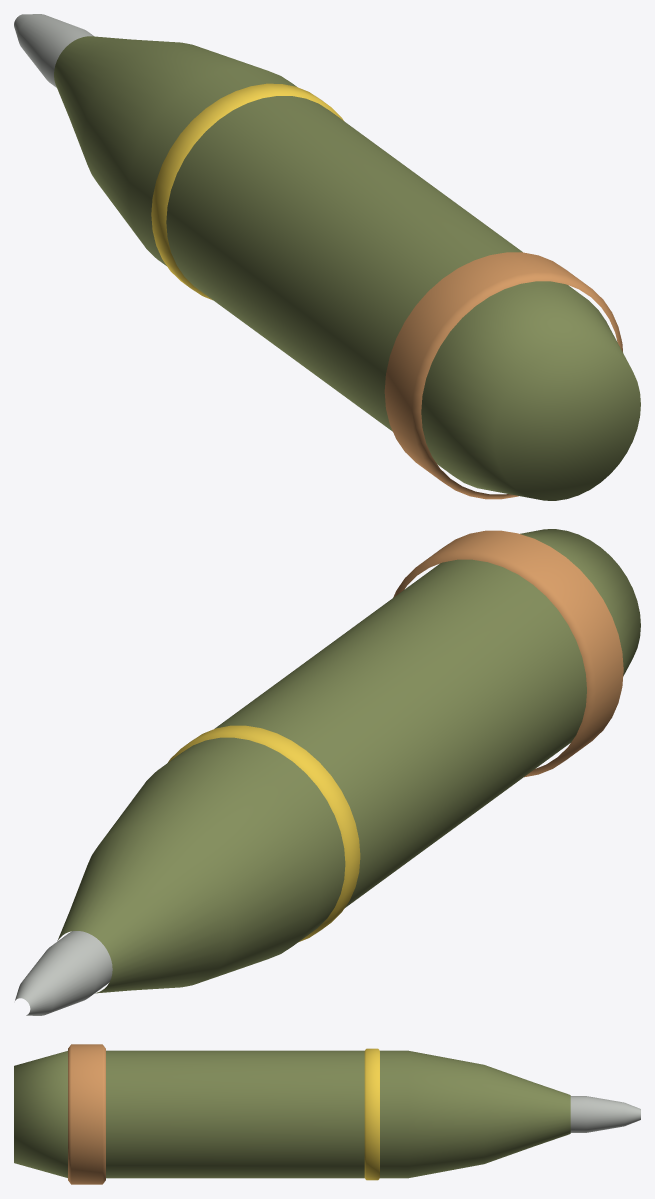
File: he_shell.glb
The picture shows the model from 3 angles, top to bottom: view 1: azimuth 30°, elevation 25°; view 2: azimuth 150°, elevation 25°; view 3: azimuth 270°, elevation 25°; orthographic projection. The views are drawn at different scales.
Visible parts, largest first — view 1: OliveExplosiveBody, CopperDrivingBand, YellowHEBand, ImpactFuze; view 2: OliveExplosiveBody, CopperDrivingBand, ImpactFuze, YellowHEBand; view 3: OliveExplosiveBody, CopperDrivingBand, YellowHEBand, ImpactFuze.
Part boxes in pixels (x1,y1,x2,y2): OliveExplosiveBody: [54, 36, 640, 500]; CopperDrivingBand: [384, 252, 622, 499]; YellowHEBand: [151, 83, 343, 300]; ImpactFuze: [14, 14, 94, 87]; OliveExplosiveBody: [57, 529, 640, 993]; CopperDrivingBand: [393, 530, 623, 777]; ImpactFuze: [15, 931, 112, 1015]; YellowHEBand: [168, 725, 360, 941]; OliveExplosiveBody: [14, 1050, 570, 1178]; CopperDrivingBand: [68, 1044, 105, 1184]; YellowHEBand: [364, 1048, 379, 1180]; ImpactFuze: [570, 1096, 640, 1132].
Bounding box in the file's own units: 0.13 × 0.13 × 0.58.
